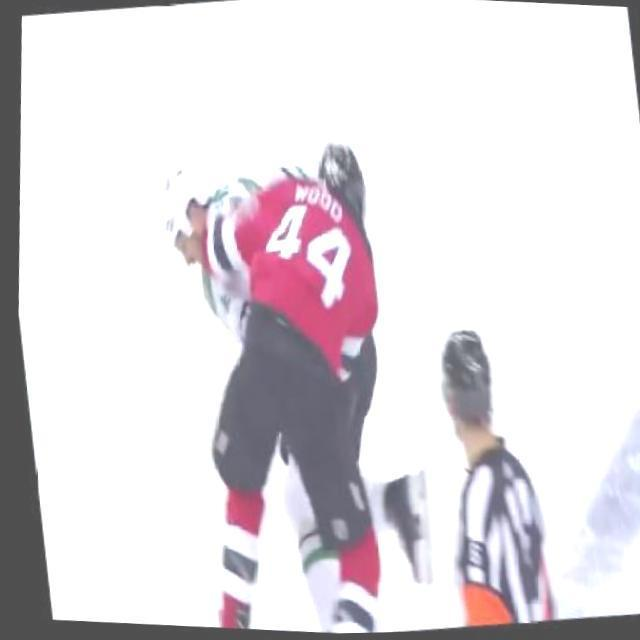fight: (112, 113, 468, 638)
